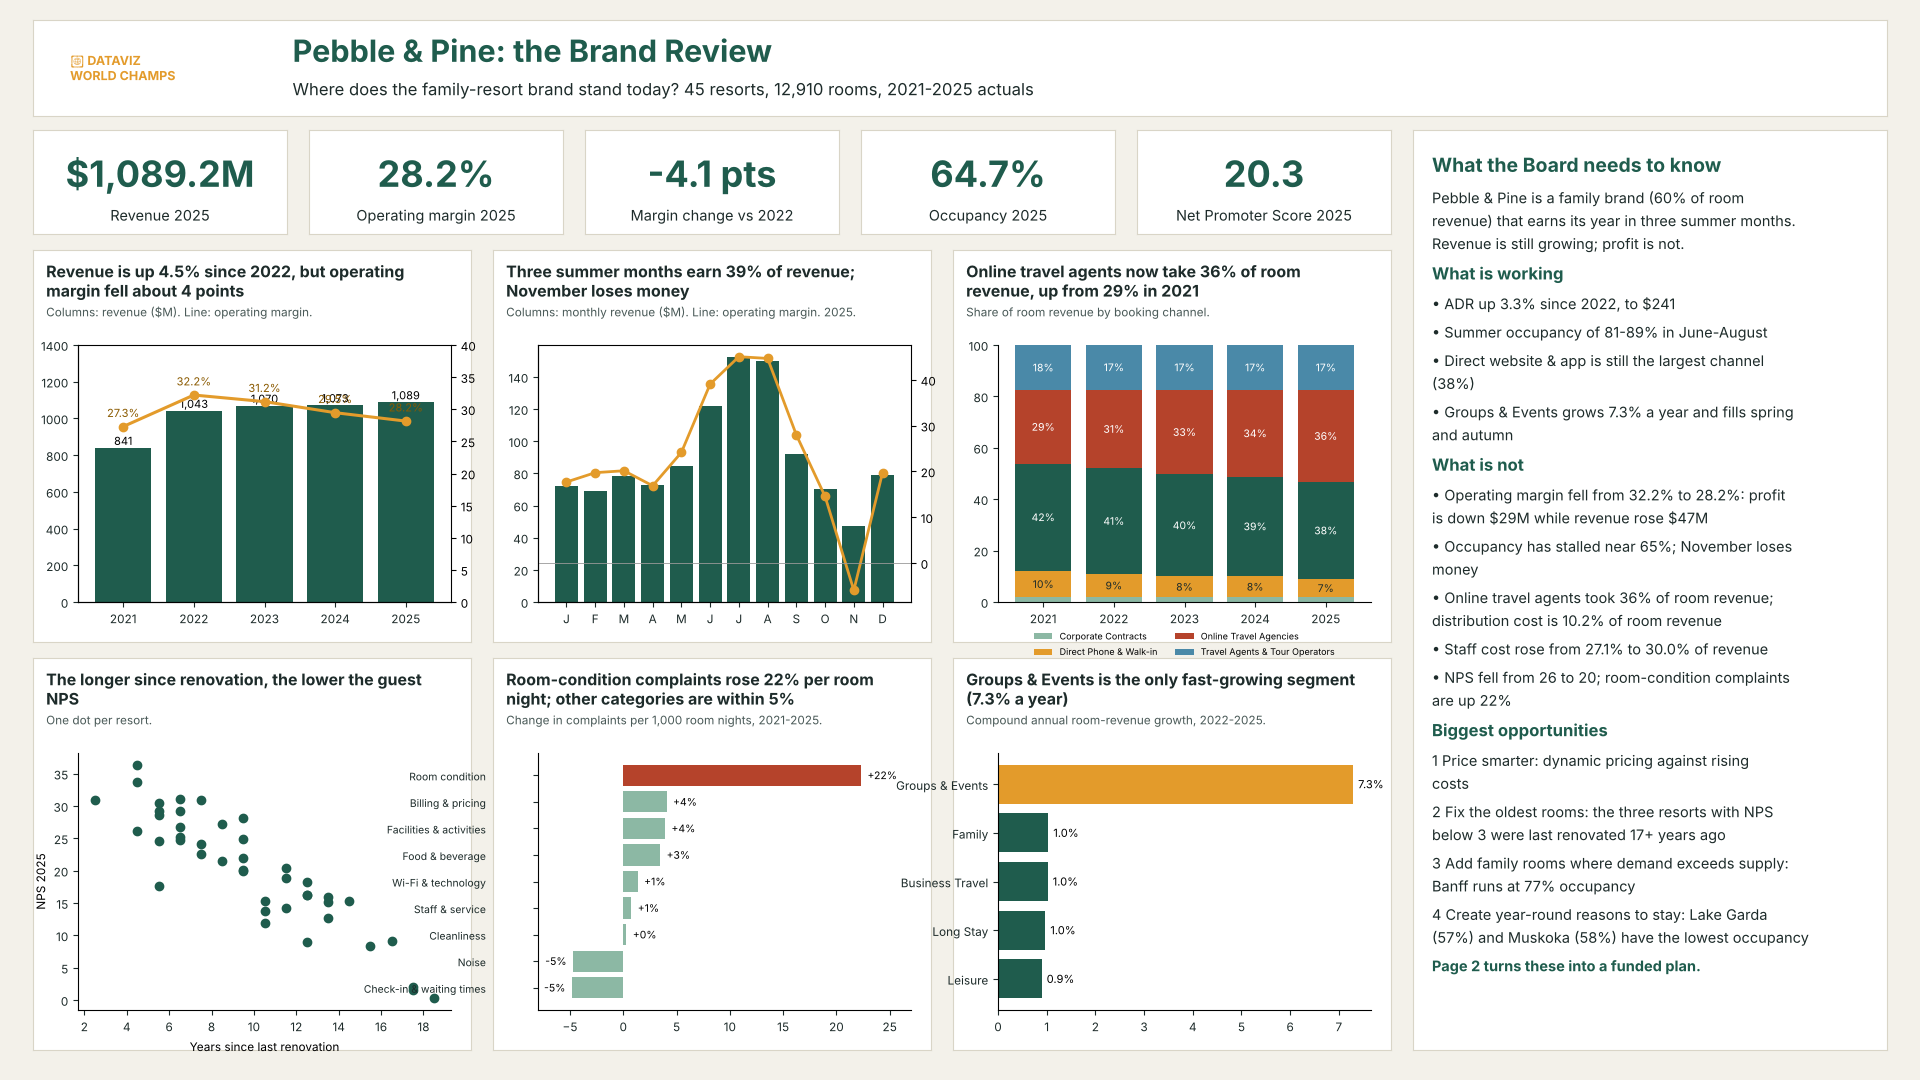

Layout of this report page (visuals, bound fields, positions):
{"tool":"powerbi","page":{"name":"Page 1 - Brand Review","canvas":[1920,1080],"ordinal":0},"visuals":[{"type":"shape","box":[33,20,1854,96],"z":1100},{"type":"image","box":[48,26,185,88],"z":1200},{"type":"textbox","box":[250,24,1400,88],"z":1300},{"type":"image","box":[1760,28,100,84],"z":1400},{"type":"card","fields":{"Values":["MonthlyPerformance.Revenue 2025"]},"box":[33,130,254,104],"z":1500},{"type":"card","fields":{"Values":["MonthlyPerformance.Operating Margin 2025"]},"box":[309,130,254,104],"z":1600},{"type":"card","fields":{"Values":["MonthlyPerformance.Margin Change vs 2022 (pts)"]},"box":[585,130,254,104],"z":1700},{"type":"card","fields":{"Values":["MonthlyPerformance.Occupancy 2025"]},"box":[861,130,254,104],"z":1800},{"type":"card","fields":{"Values":["GuestExperience.NPS 2025"]},"box":[1137,130,254,104],"z":1900},{"type":"lineClusteredColumnComboChart","title":"Revenue is up 4.5% since 2022, but operating margin fell about 4 points","fields":{"Category":["Date.Year"],"Y":["MonthlyPerformance.Total Revenue"],"Y2":["MonthlyPerformance.Operating Margin"]},"box":[33,250,438,392],"z":2000},{"type":"lineClusteredColumnComboChart","title":"Three summer months earn 39% of revenue; November loses money","fields":{"Category":["Date.YearMonth"],"Y":["MonthlyPerformance.Revenue 2025"],"Y2":["MonthlyPerformance.Operating Margin 2025"]},"box":[493,250,438,392],"z":2100},{"type":"hundredPercentStackedColumnChart","title":"Online travel agents now take 36% of room revenue, up from 29% in 2021","fields":{"Category":["Date.Year"],"Y":["Sum(BookingChannels.RoomRevenue)"],"Series":["BookingChannels.Channel"]},"box":[953,250,438,392],"z":2200},{"type":"scatterChart","title":"The longer since renovation, the lower the guest NPS","fields":{"Category":["Hotels.HotelName"],"X":["GuestExperience.Years Since Renovation"],"Y":["GuestExperience.NPS 2025"]},"box":[33,658,438,392],"z":2300},{"type":"clusteredBarChart","title":"Room-condition complaints rose 22% per room night; other categories are within 5%","fields":{"Category":["GuestComplaints.Category"],"Y":["GuestComplaints.Complaint Rate Change 2021-2025"]},"box":[493,658,438,392],"z":2400},{"type":"clusteredBarChart","title":"Groups & Events is the only fast-growing segment (7.3% a year)","fields":{"Category":["GuestSegments.Segment"],"Y":["GuestSegments.Segment Revenue CAGR 2022-2025"]},"box":[953,658,438,392],"z":2500},{"type":"textbox","box":[1413,130,474,920],"z":2600}]}

Visuals, with their boxes in screenshot pixels (x1, y1, x2, y2), scaled from the page's 1920x1080 canvas onto the 1920x1080 screenshot:
shape: Rect(33, 20, 1887, 116)
image: Rect(48, 26, 233, 114)
textbox: Rect(250, 24, 1650, 112)
image: Rect(1760, 28, 1860, 112)
card - MonthlyPerformance.Revenue 2025: Rect(33, 130, 287, 234)
card - MonthlyPerformance.Operating Margin 2025: Rect(309, 130, 563, 234)
card - MonthlyPerformance.Margin Change vs 2022 (pts): Rect(585, 130, 839, 234)
card - MonthlyPerformance.Occupancy 2025: Rect(861, 130, 1115, 234)
card - GuestExperience.NPS 2025: Rect(1137, 130, 1391, 234)
"Revenue is up 4.5% since 2022, but operating margin fell about 4 points" lineClusteredColumnComboChart: Rect(33, 250, 471, 642)
"Three summer months earn 39% of revenue; November loses money" lineClusteredColumnComboChart: Rect(493, 250, 931, 642)
"Online travel agents now take 36% of room revenue, up from 29% in 2021" hundredPercentStackedColumnChart: Rect(953, 250, 1391, 642)
"The longer since renovation, the lower the guest NPS" scatterChart: Rect(33, 658, 471, 1050)
"Room-condition complaints rose 22% per room night; other categories are within 5%" clusteredBarChart: Rect(493, 658, 931, 1050)
"Groups & Events is the only fast-growing segment (7.3% a year)" clusteredBarChart: Rect(953, 658, 1391, 1050)
textbox: Rect(1413, 130, 1887, 1050)
